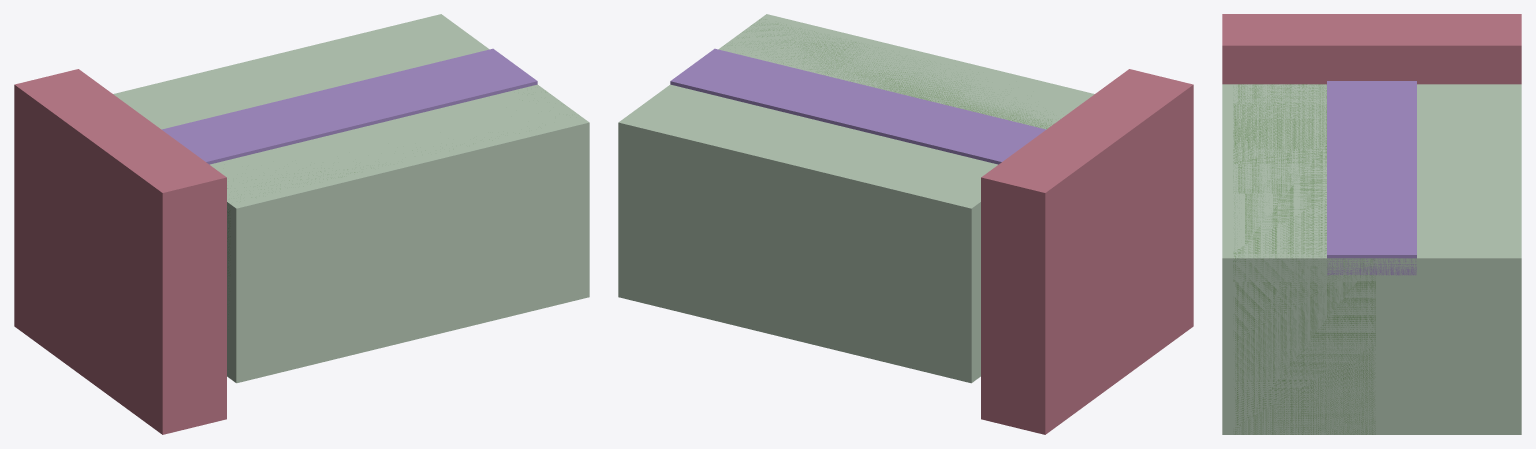
The model's file is 199531_pred.glb.
3 renders of one model, left to right at view 1: azimuth 30°, elevation 25°; view 2: azimuth 150°, elevation 25°; view 3: azimuth 270°, elevation 25°, orthographic.
Visible parts, largest first — view 1: world; view 2: world; view 3: world.
Boxes of the visible parts, <box> form: world: <box>14,14,589,434</box>; world: <box>618,14,1193,434</box>; world: <box>1222,14,1521,434</box>.
Bounding box in the file's own units: 6.65 × 3.6 × 4.
